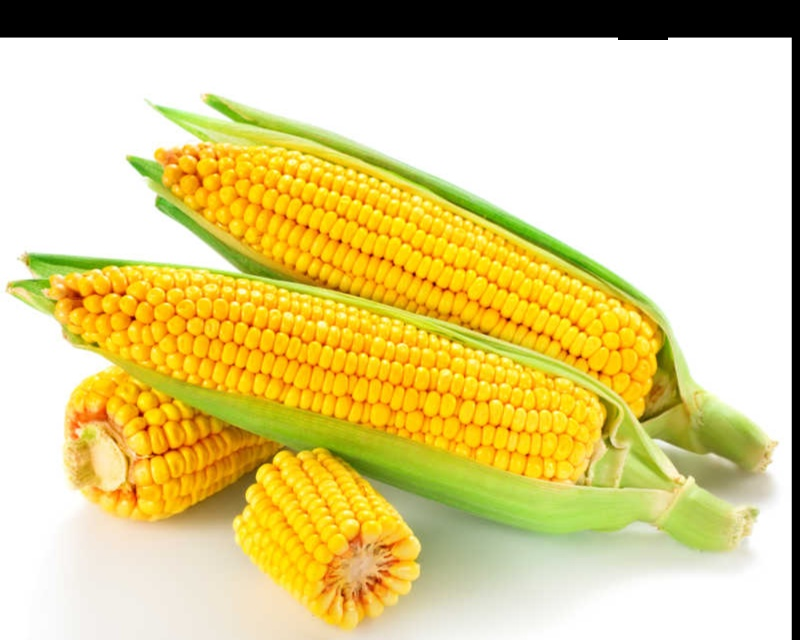corn: (148, 121, 761, 449), (33, 249, 681, 512)
